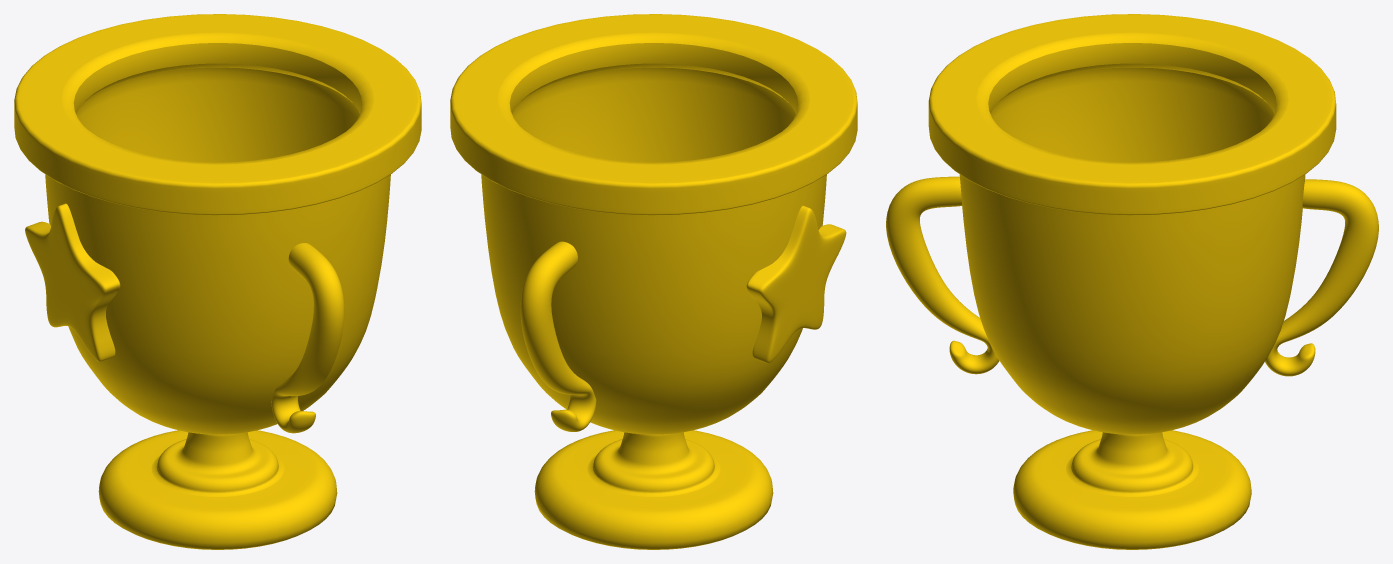
File: sports5.glb
3 views of the same model, side by side, from view 1: azimuth 30°, elevation 25°; view 2: azimuth 150°, elevation 25°; view 3: azimuth 270°, elevation 25° (orthographic).
Visible parts, largest first — view 1: Trophy; view 2: Trophy; view 3: Trophy.
Part boxes in pixels (x1,y1,x2,y2): Trophy: (14,14,421,549); Trophy: (450,14,857,549); Trophy: (886,14,1378,549).
Bounding box in the file's own units: 1.38 × 1.53 × 1.67.
